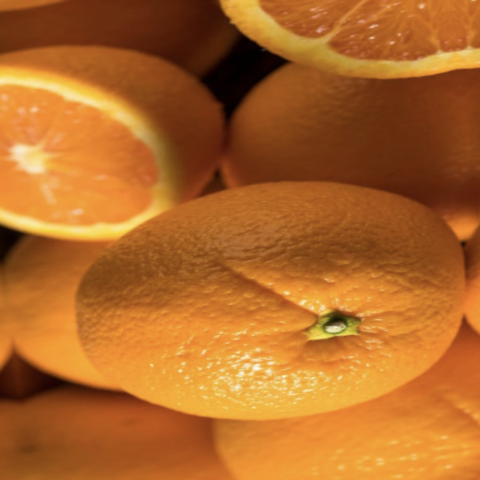orange: (30, 143, 480, 479)
